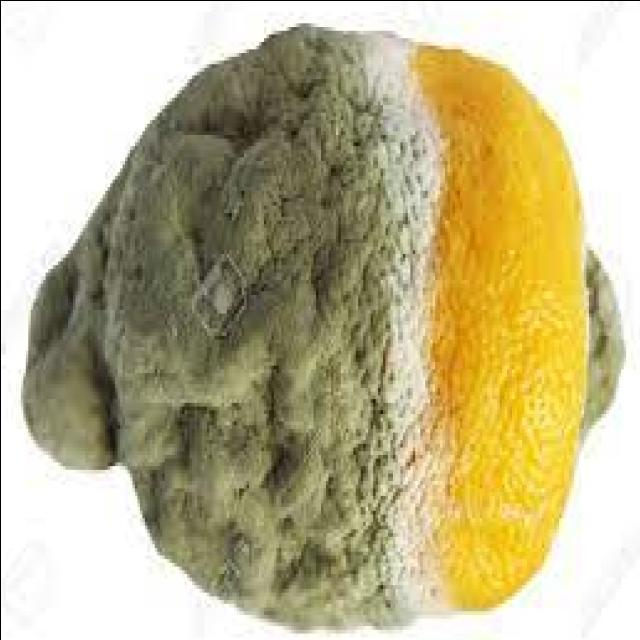Rotten: (20, 23, 623, 637)
